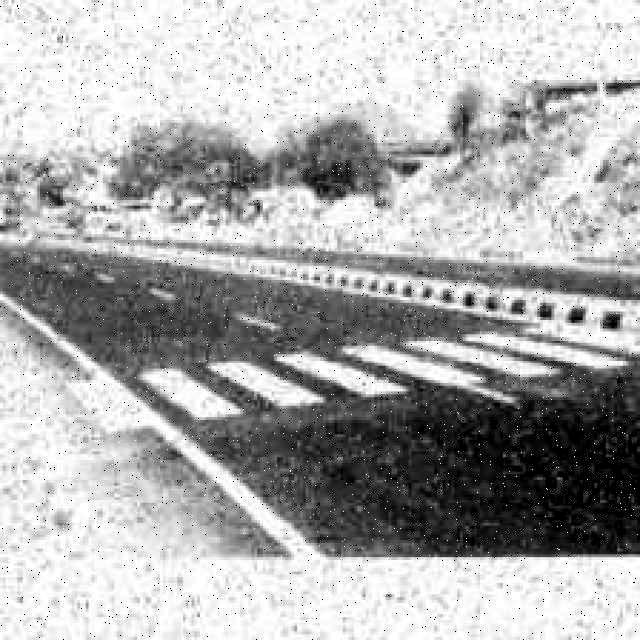crosswalk: (11, 307, 638, 444)
